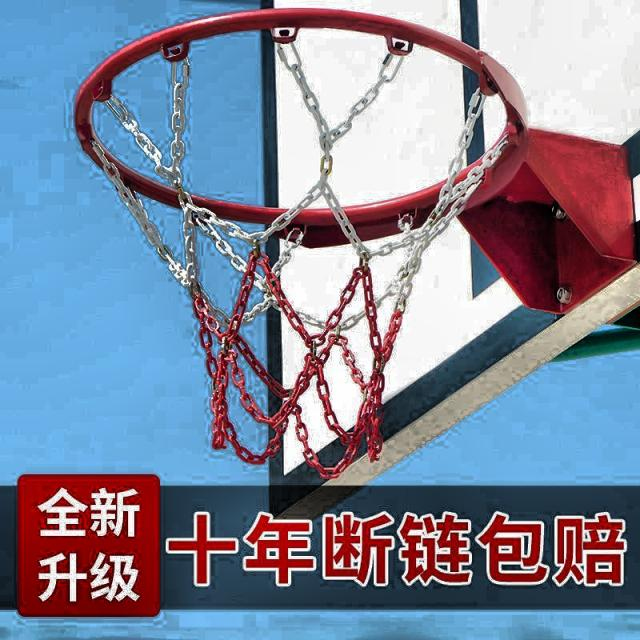rim: (74, 6, 516, 476)
